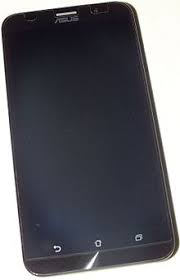asus: (1, 2, 180, 277)
